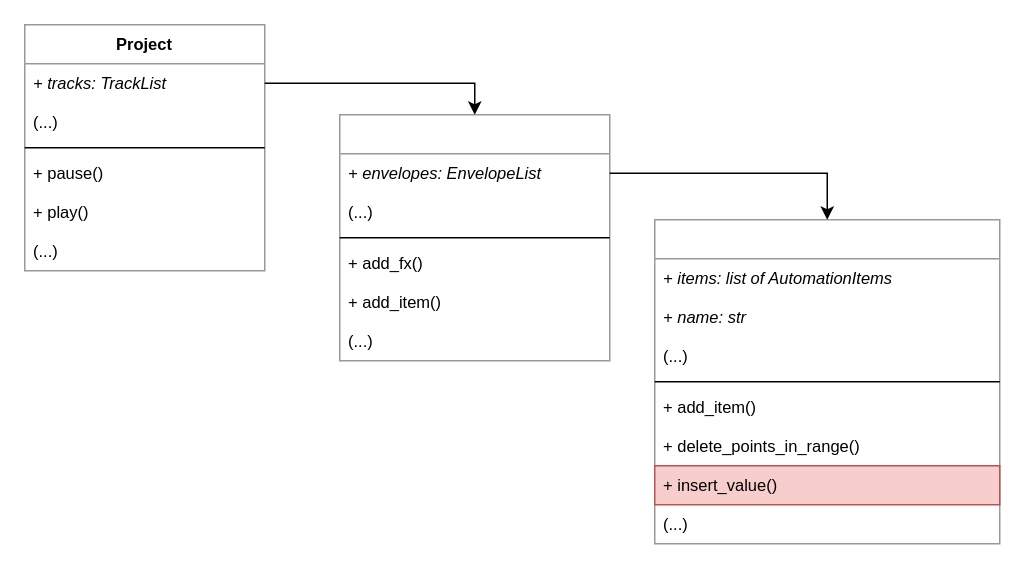
The diagram is 1025 pixels wide and 569 high, and some of its shapes have lost their labels. The box of each missing label's shape, as (x1, y1, x2, y2) in pixels:
Envelope: (653, 218, 1000, 544)
Track: (338, 113, 610, 361)
